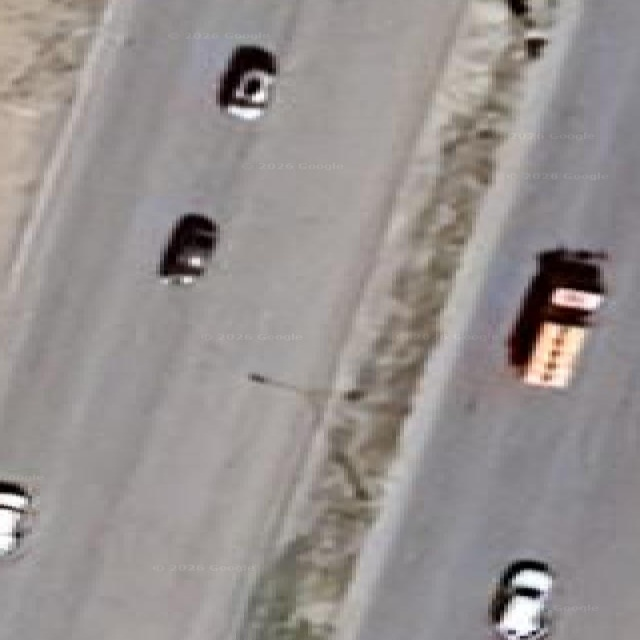car: (508, 249, 605, 387), (490, 560, 552, 639), (158, 213, 218, 284), (218, 46, 276, 119), (506, 0, 549, 58), (0, 481, 31, 556)
